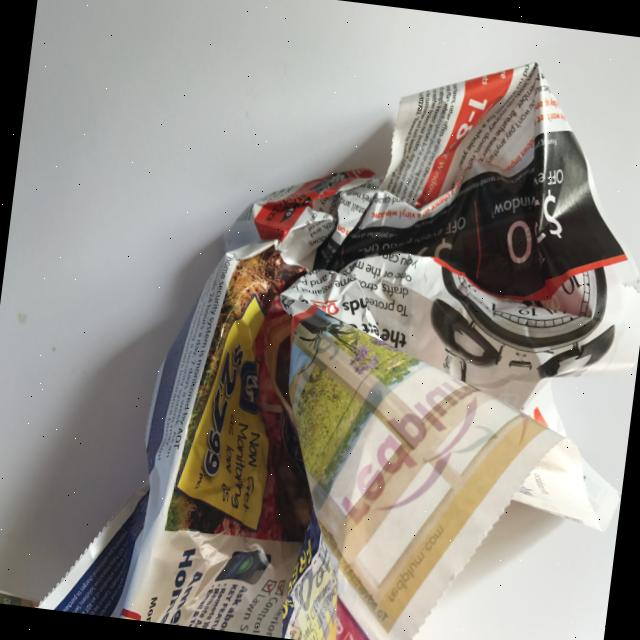paper: (36, 9, 640, 640)
